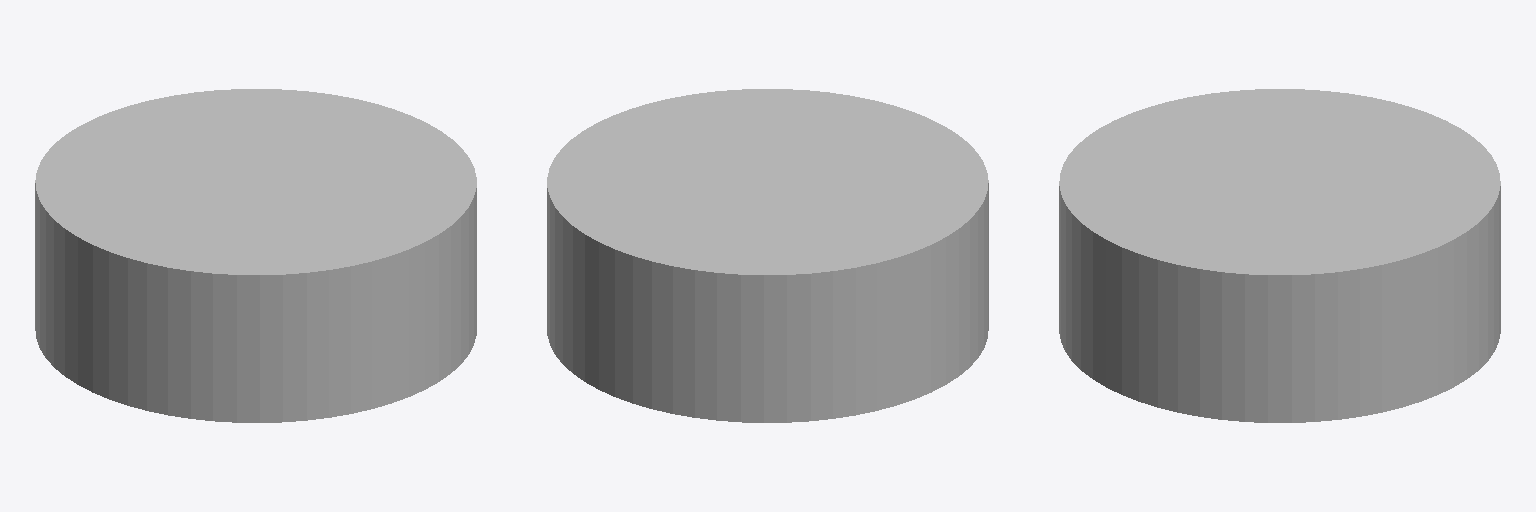
File: wheel.obj
3 views of the same model, side by side, from view 1: azimuth 30°, elevation 25°; view 2: azimuth 150°, elevation 25°; view 3: azimuth 270°, elevation 25° (orthographic).
Parts seen in each view (by area): view 1: Solid1; view 2: Solid1; view 3: Solid1.
Part boxes in pixels (left/top/right/bottom): Solid1: left=35, top=89, right=476, bottom=422; Solid1: left=547, top=89, right=988, bottom=422; Solid1: left=1059, top=89, right=1500, bottom=422.
Bounding box in the file's own units: 64.95 × 24 × 64.98.